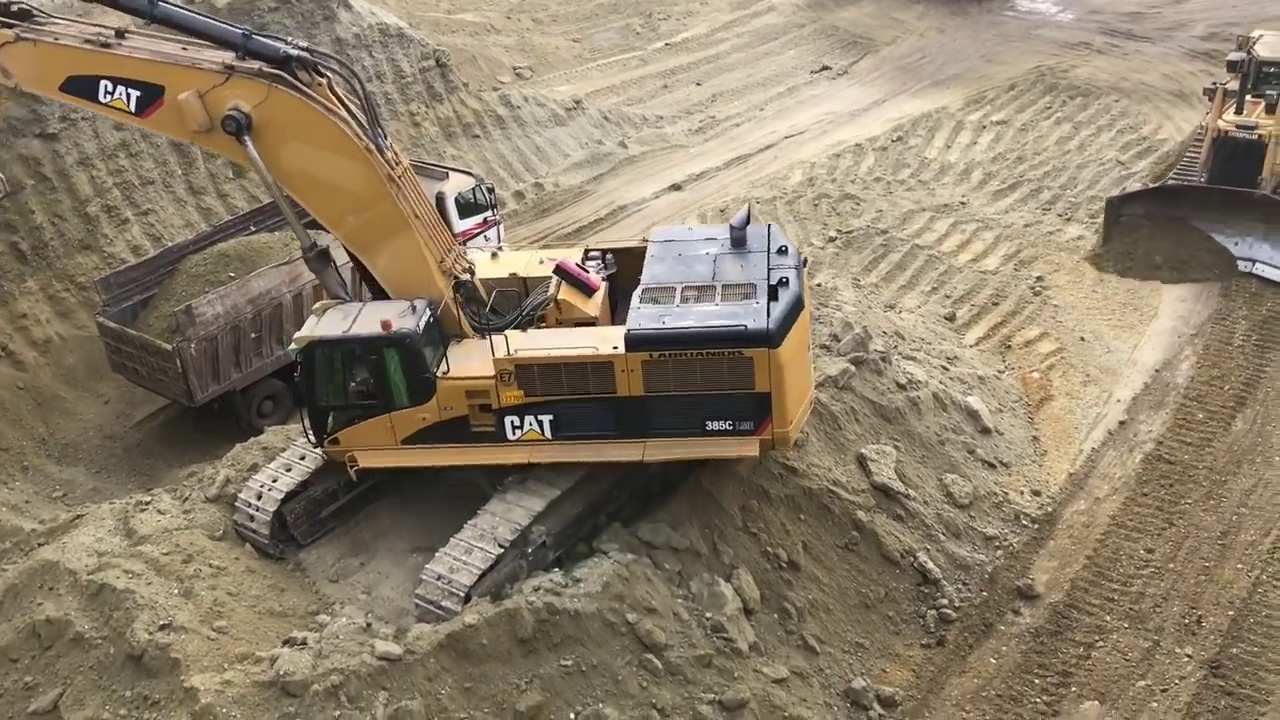excavator: (2, 3, 815, 629)
truck: (79, 160, 507, 432), (1095, 16, 1280, 280)
